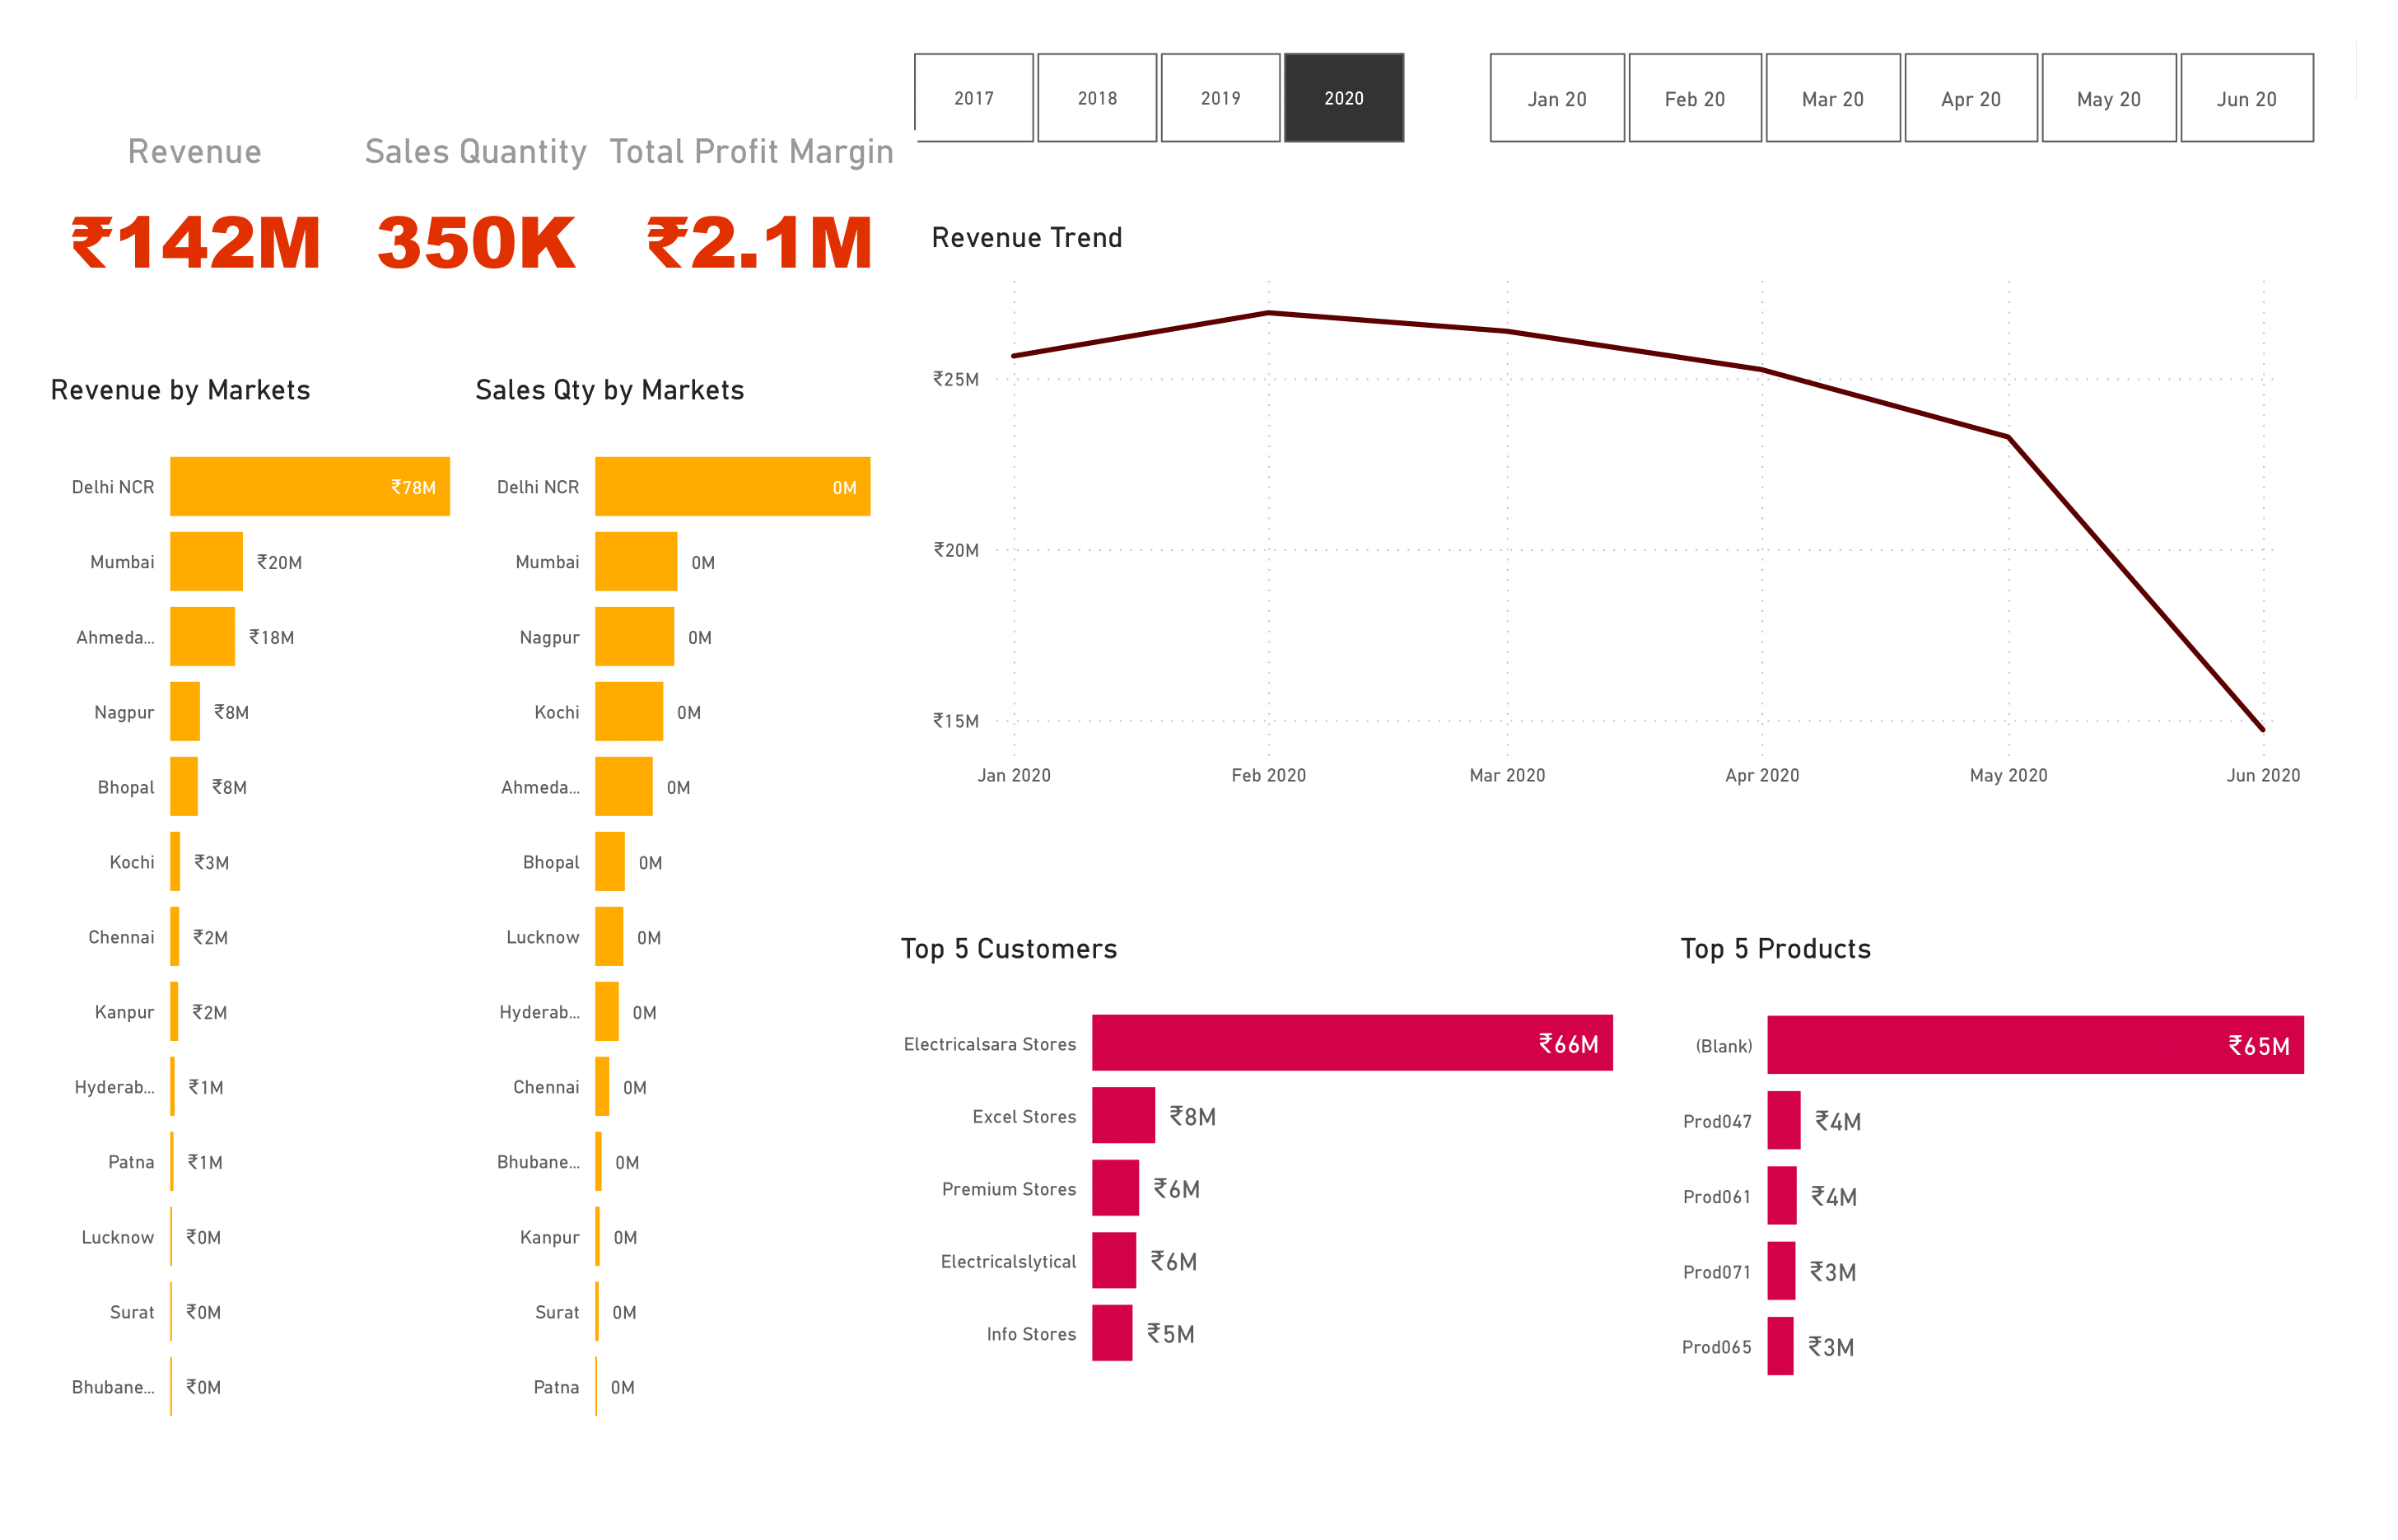

The dashboard page shown, as its layout file describes it:
{"tool":"powerbi","page":{"name":"Key Insights","canvas":[1350,850],"ordinal":0},"visuals":[{"type":"barChart","title":"Revenue by Markets","fields":{"Y":["BaseMeasures (2).Revenue"],"Category":["sales markets.markets_name"]},"box":[0,193.1,247.9,631.9],"z":2000},{"type":"barChart","title":"Sales Qty by Markets","fields":{"Y":["BaseMeasures (2).Sales Qty"],"Category":["sales markets.markets_name"]},"box":[247.9,193.1,247.9,631.9],"z":3000},{"type":"slicer","fields":{"Values":["sales date.year"]},"box":[483.2,0,335.5,66.5],"z":4000},{"type":"slicer","fields":{"Values":["sales date.cy_date"]},"box":[818.6,0,531.7,66.5],"z":5000},{"type":"barChart","title":"Top 5 Customers","fields":{"Y":["BaseMeasures (2).Revenue"],"Category":["sales customers.custmer_name"]},"box":[495.8,519,446.2,274.3],"z":6000},{"type":"barChart","title":"Top 5 Products","fields":{"Y":["BaseMeasures (2).Revenue"],"Category":["sales products.product_code"]},"box":[950.7,519.2,399.5,282.8],"z":7000},{"type":"lineChart","title":"Revenue Trend","fields":{"Y":["BaseMeasures (2).Revenue"],"Category":["sales date.cy_date"]},"box":[513.8,104.4,809.1,338.6],"z":8000},{"type":"card","title":"Revenue","fields":{"Values":["BaseMeasures (2).Revenue"]},"box":[0,52.1,179.5,104.2],"z":8001},{"type":"card","title":"Sales Quantity","fields":{"Values":["BaseMeasures (2).Sales Qty"]},"box":[170.8,52.1,165,104.2],"z":8002},{"type":"card","title":"Total Profit Margin","fields":{"Values":["BaseMeasures (2).Total Profit Margin"]},"box":[325.6,52.1,185.2,104.2],"z":8003}]}

Visuals, with their boxes in screenshot pixels (x1, y1, x2, y2):
"Revenue by Markets" barChart: x1=41, y1=372, x2=466, y2=1456
"Sales Qty by Markets" barChart: x1=466, y1=372, x2=892, y2=1456
slicer - sales date.year: x1=870, y1=41, x2=1445, y2=155
slicer - sales date.cy_date: x1=1445, y1=41, x2=2357, y2=155
"Top 5 Customers" barChart: x1=892, y1=931, x2=1657, y2=1402
"Top 5 Products" barChart: x1=1672, y1=931, x2=2357, y2=1416
"Revenue Trend" lineChart: x1=922, y1=220, x2=2311, y2=800
"Revenue" card: x1=41, y1=130, x2=349, y2=309
"Sales Quantity" card: x1=334, y1=130, x2=617, y2=309
"Total Profit Margin" card: x1=599, y1=130, x2=917, y2=309
